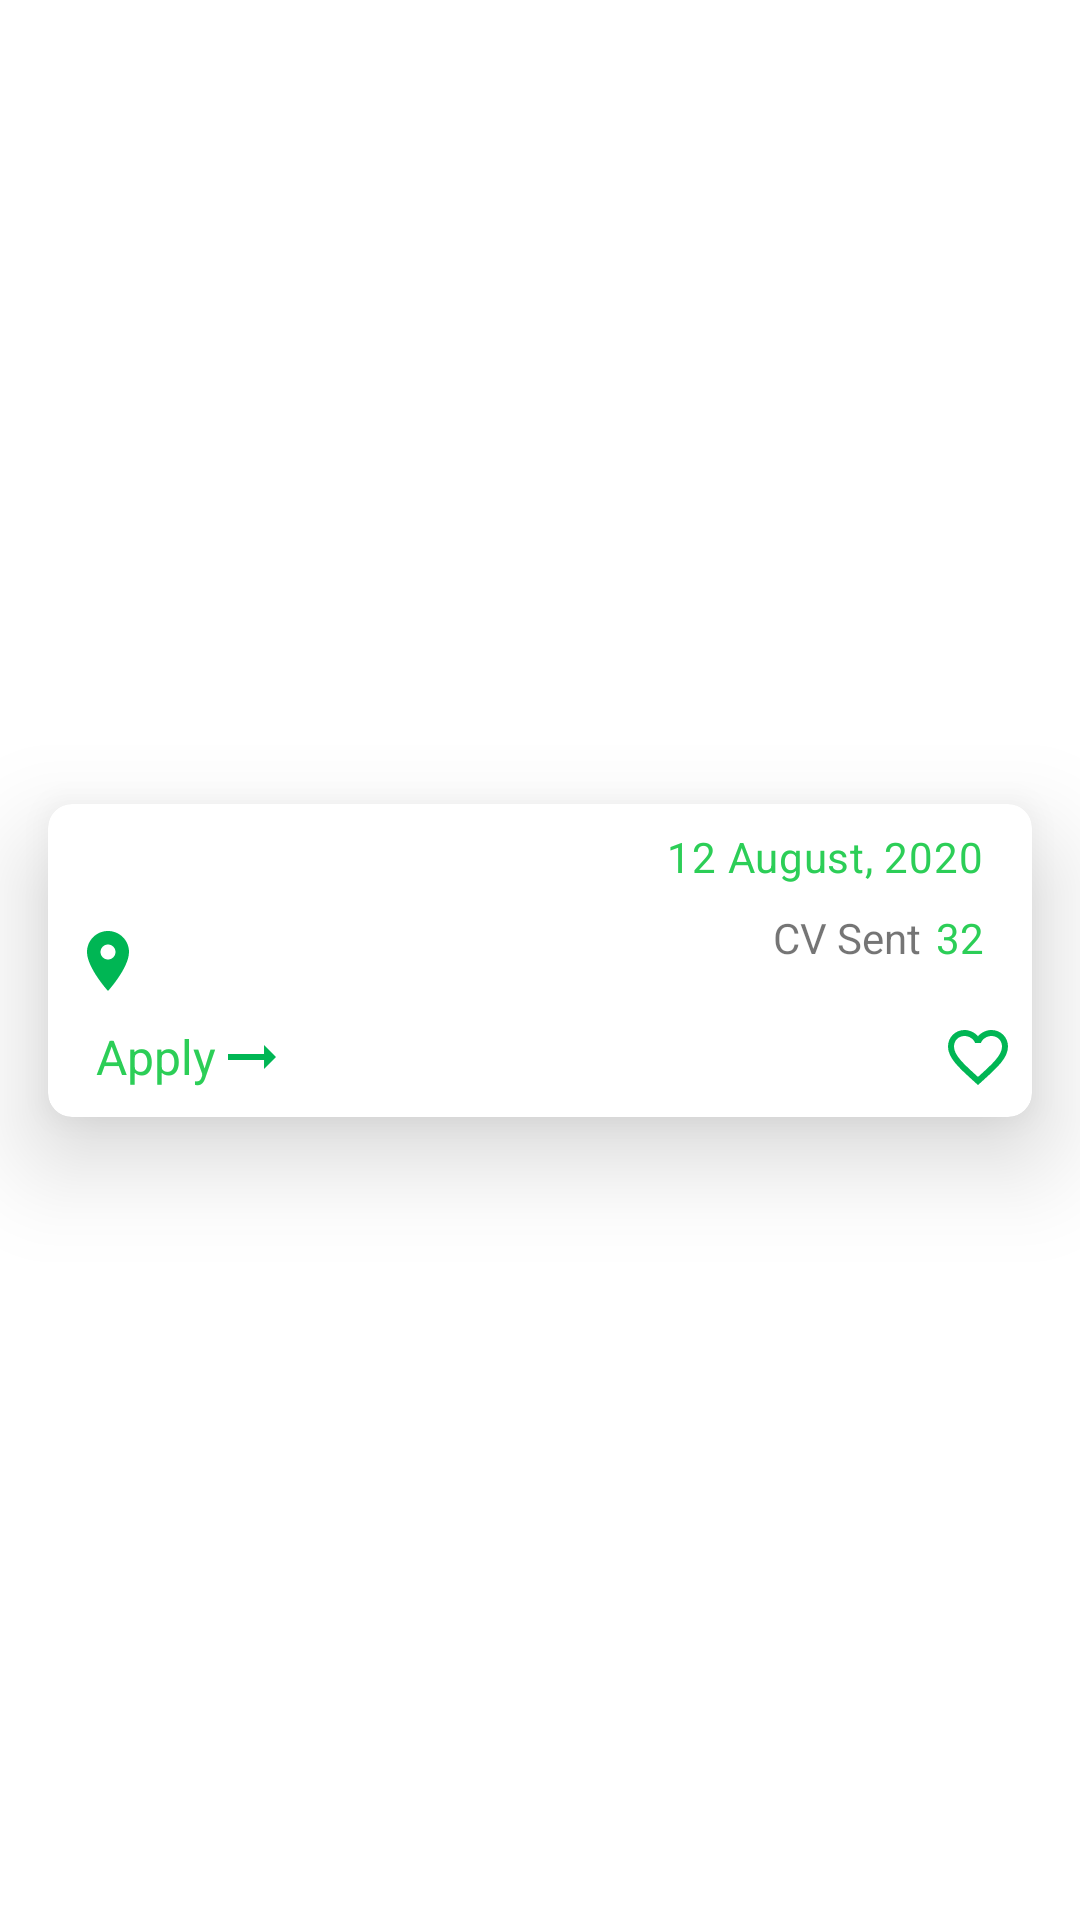

Named icons in this screenshot (1080w x 1920h) and their centers, point (x, y):
arrow right: point (252, 1057)
location on: point (108, 961)
